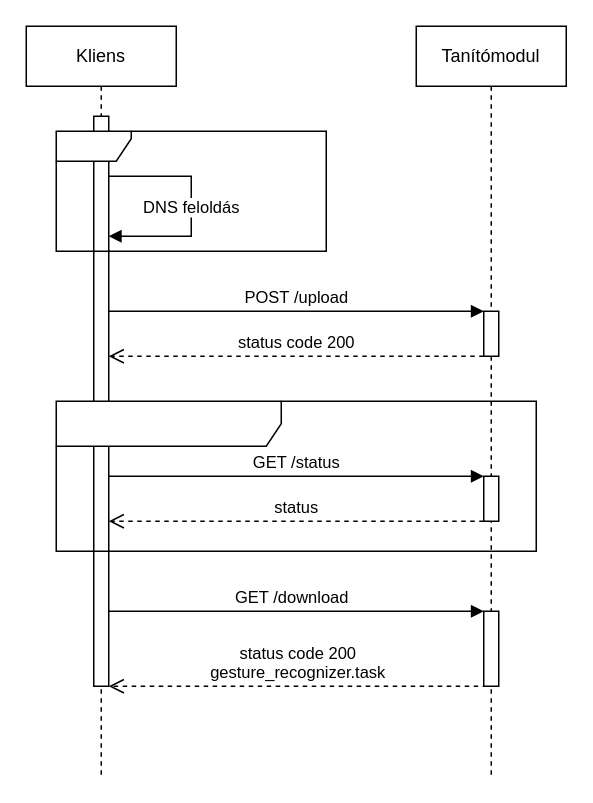
This 593x803 diagram has some shape labels left out. Here are the shapes that lost their labels. From the top down, the centre of each, then its label:
(x=190, y=190): opt
(x=295, y=475): while status != "idle"
